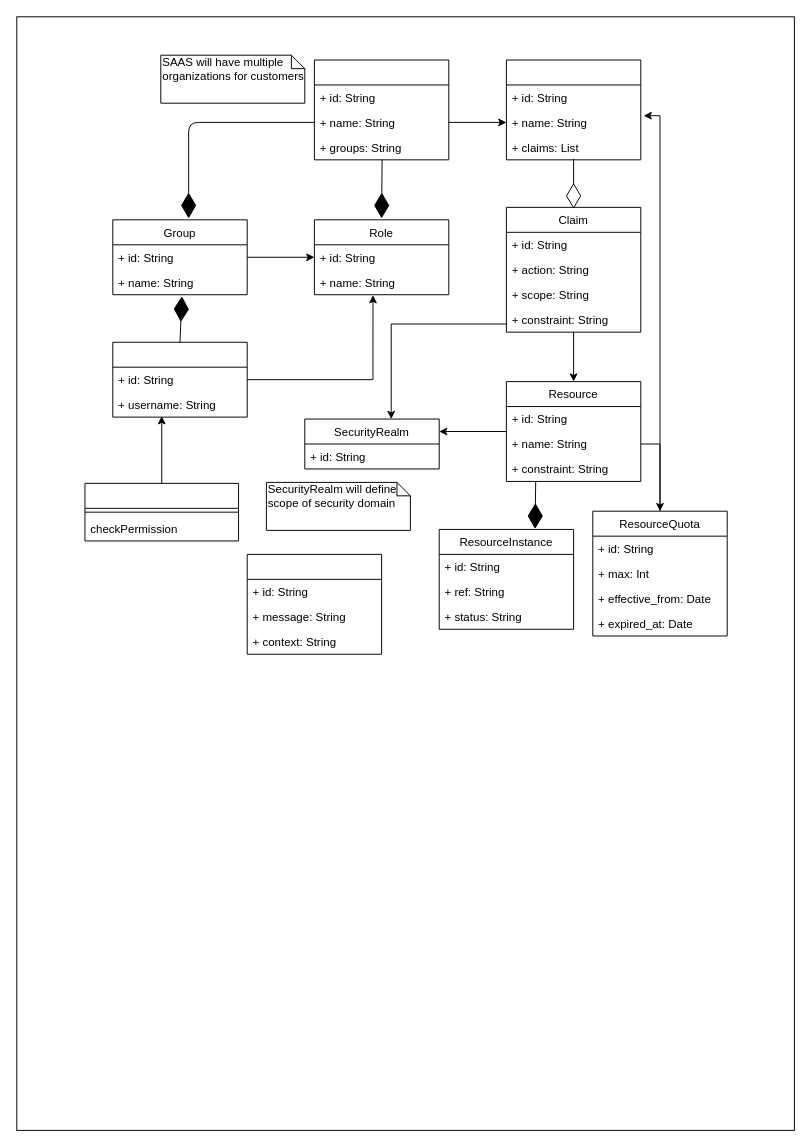
The diagram is 811 pixels wide and 1147 high, and some of its shapes have lost their labels. Here are the shapes that lost their labels. From the top down, the box of each, then its label:
(313, 59, 449, 160): Organization
(505, 59, 641, 160): LicensePolicy
(112, 341, 247, 417): Principal
(84, 482, 239, 541): SecurityManager
(246, 553, 382, 654): AuditRecord
